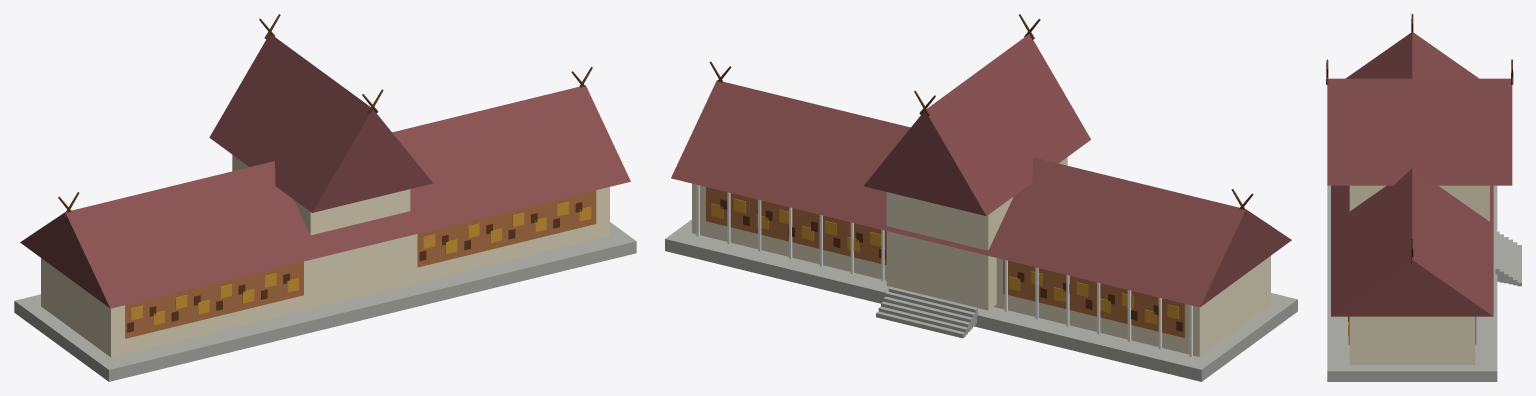
The model's file is env_lm3_muzium_negara.fbx.
3 views of the same model, side by side, from view 1: azimuth 30°, elevation 25°; view 2: azimuth 150°, elevation 25°; view 3: azimuth 270°, elevation 25° (orthographic). The views are drawn at different scales.
Parts seen in each view (by area): view 1: env_lm3_muzium_negara_geo_LOD0; view 2: env_lm3_muzium_negara_geo_LOD0; view 3: env_lm3_muzium_negara_geo_LOD0.
Boxes of the visible parts, <box> form: env_lm3_muzium_negara_geo_LOD0: <box>14,14,636,381</box>; env_lm3_muzium_negara_geo_LOD0: <box>665,14,1297,381</box>; env_lm3_muzium_negara_geo_LOD0: <box>1326,14,1521,381</box>.
Size of what is drawn, in the model's own units: 74.99 by 30.43 by 26.48.
